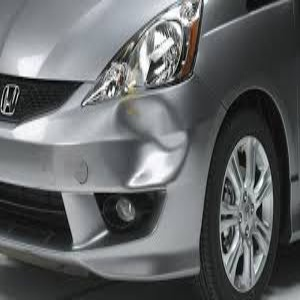bumper: (95, 97, 194, 185)
